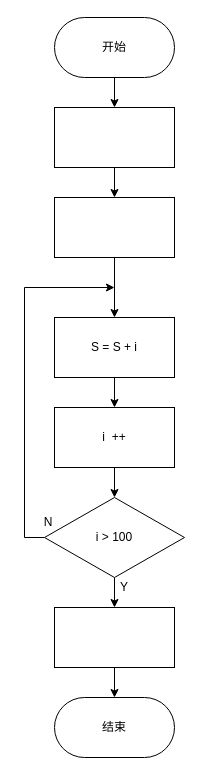
Some shapes in this 202 by 775 pixel diagram are drawn without their labels. Here are the shapes that lost their labels. From the top down, the centre of each, then its label:
At point (114, 137): "i =1".
At point (114, 227): "S = 0".
At point (114, 637): "输出 S".
